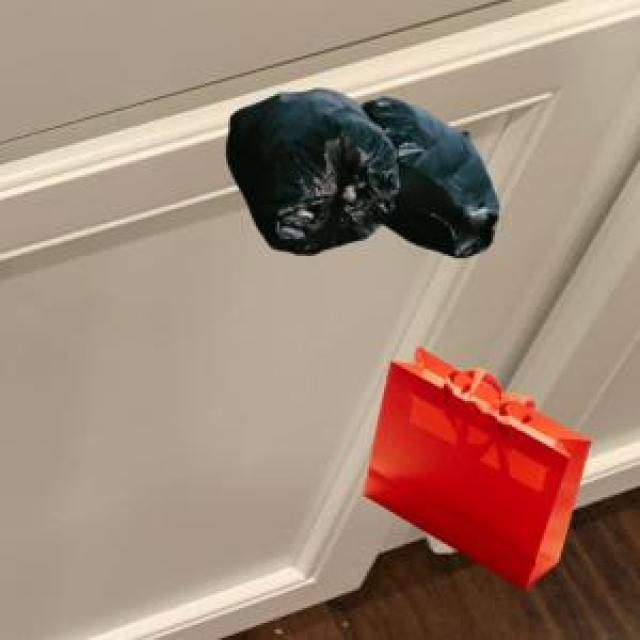miscellaneous trash: (222, 85, 495, 254)
paper: (361, 344, 587, 585)
